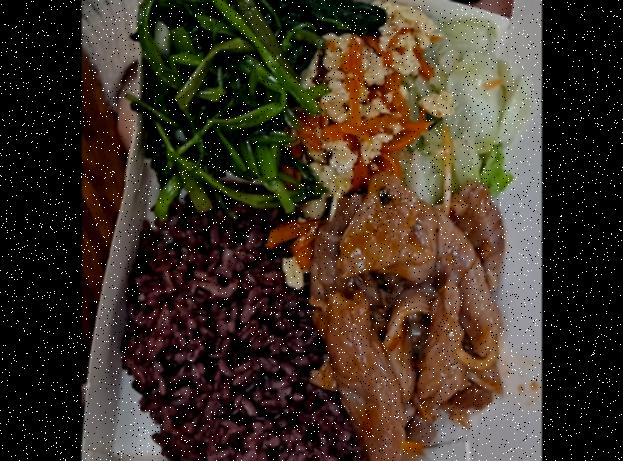big grilled chicken leg: (81, 0, 491, 461)
braised fish: (123, 201, 367, 461)
braised fish fillet: (142, 0, 320, 203), (306, 8, 433, 194), (414, 18, 524, 200)
braised pork: (302, 190, 508, 461)
